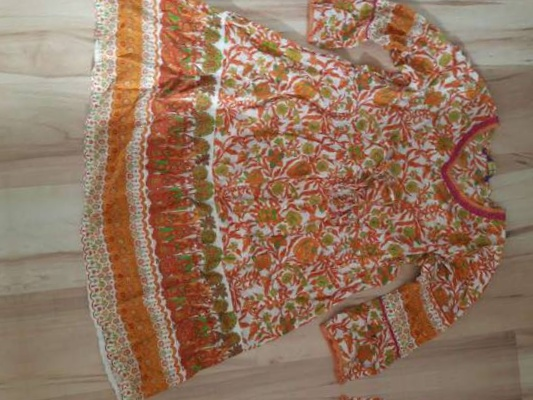Dress: (43, 0, 533, 400), (87, 377, 533, 400)
